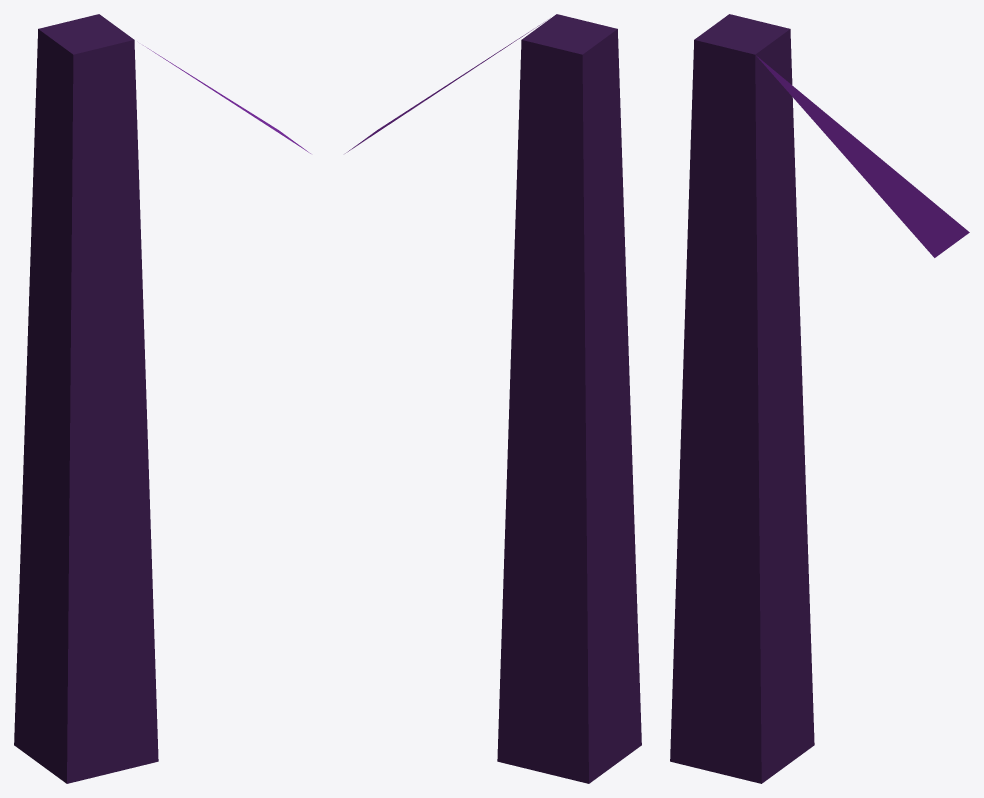
Rendered from borderpost_dark.obj.
The picture shows the model from 3 angles, left to right: view 1: azimuth 30°, elevation 25°; view 2: azimuth 150°, elevation 25°; view 3: azimuth 330°, elevation 25°; orthographic projection.
Parts seen in each view (by area): view 1: borderpost; view 2: borderpost; view 3: borderpost.
Boxes of the visible parts, x1,y1,x2,y2 form: borderpost: (14, 14, 310, 783); borderpost: (345, 14, 641, 783); borderpost: (670, 14, 969, 783).
Size of the model in its own units: 0.67 by 1.8 by 0.24.
